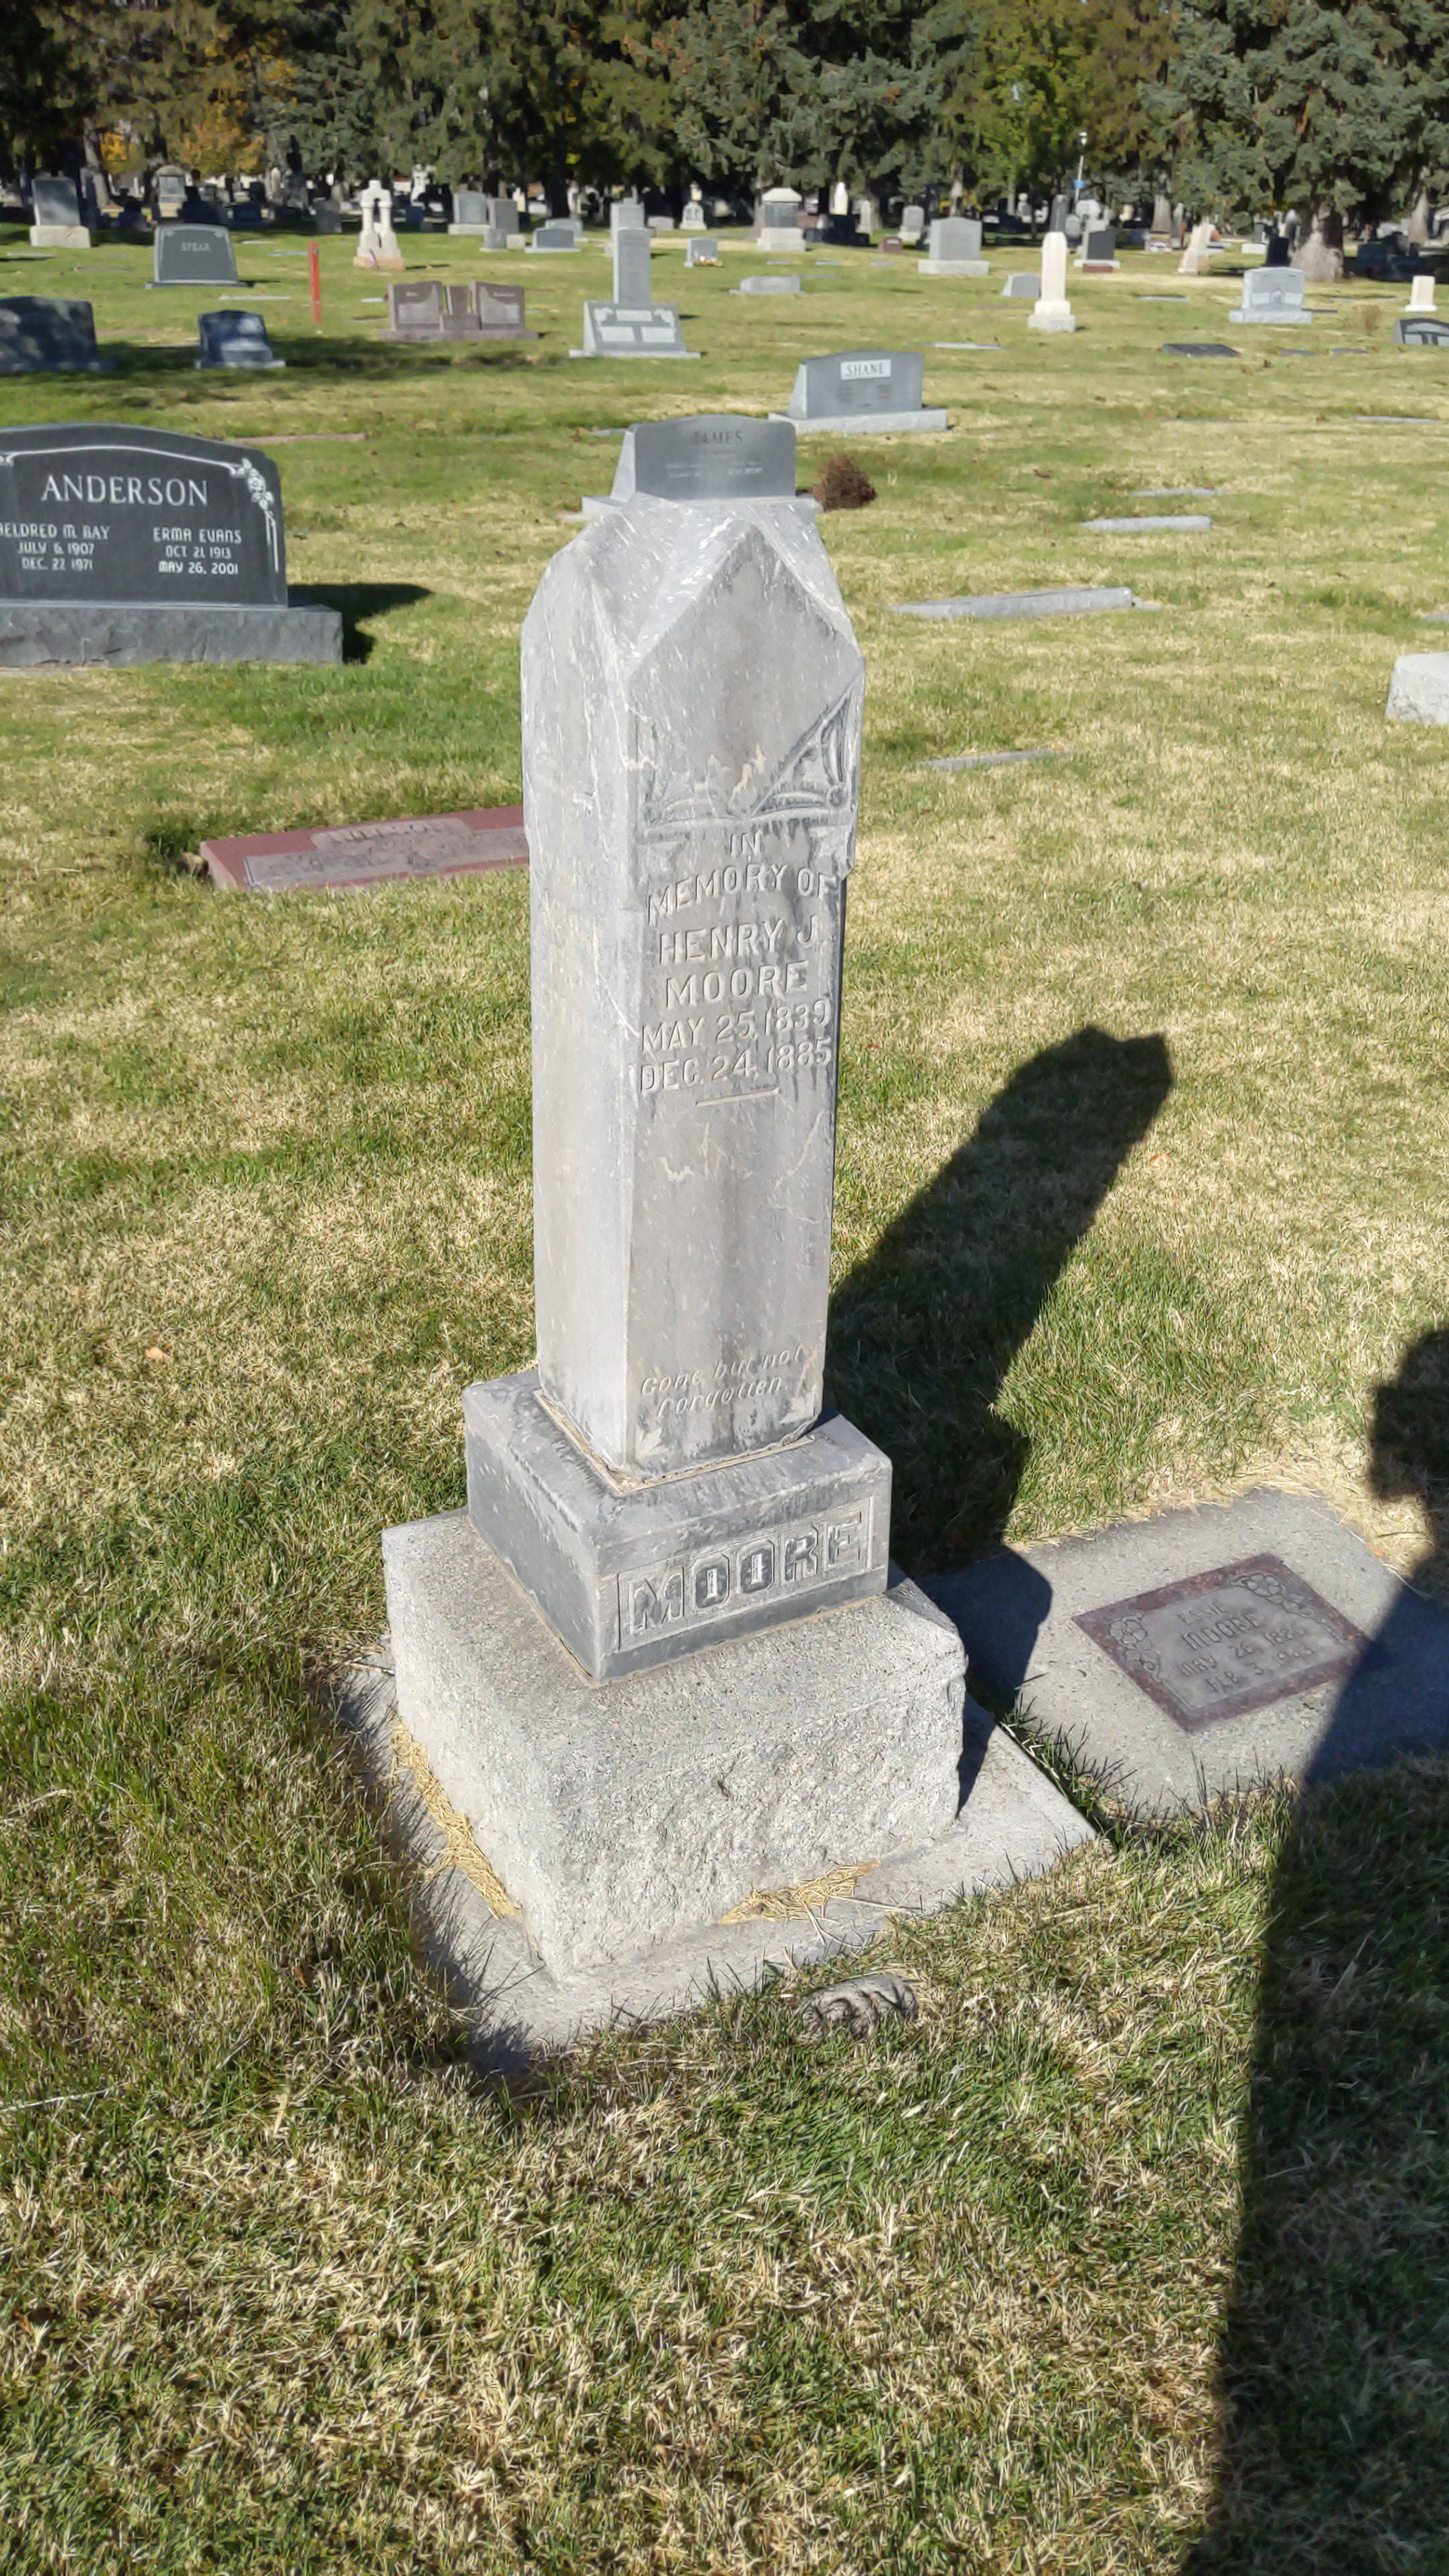obelisk: (469, 494, 888, 1679)
